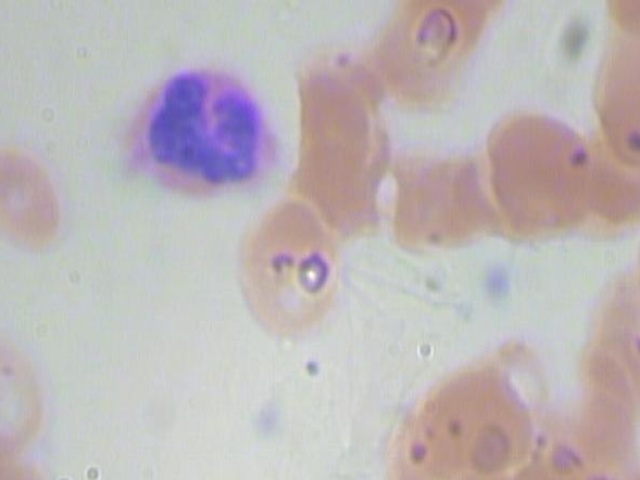Platelets: (474, 258, 519, 305), (244, 395, 288, 442)
RBC: (480, 92, 594, 254), (226, 189, 340, 350), (414, 334, 536, 480), (380, 133, 485, 261), (386, 0, 492, 100), (577, 27, 640, 155), (0, 143, 66, 264), (0, 329, 58, 457)
WBC: (107, 54, 294, 202)
